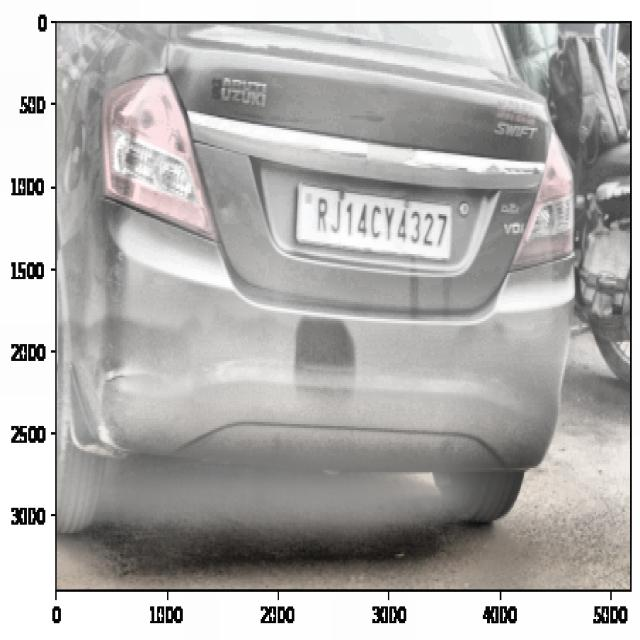license_plate: (313, 194, 452, 258)
